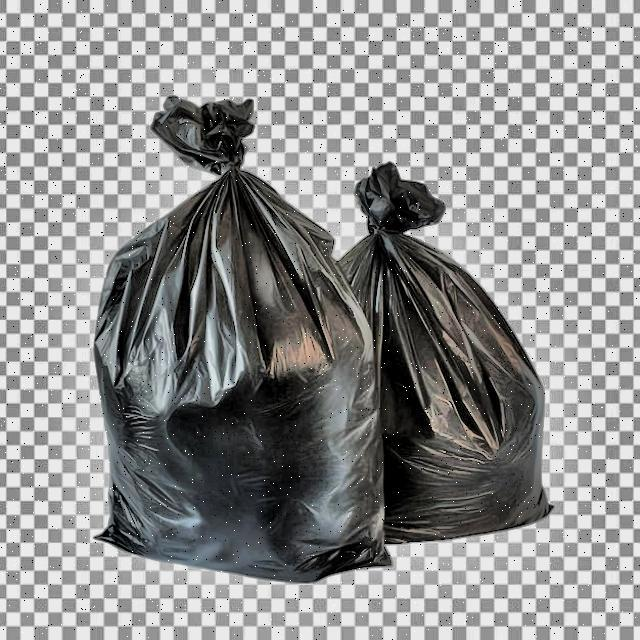Trashbag: (94, 90, 388, 586), (333, 154, 557, 550)
